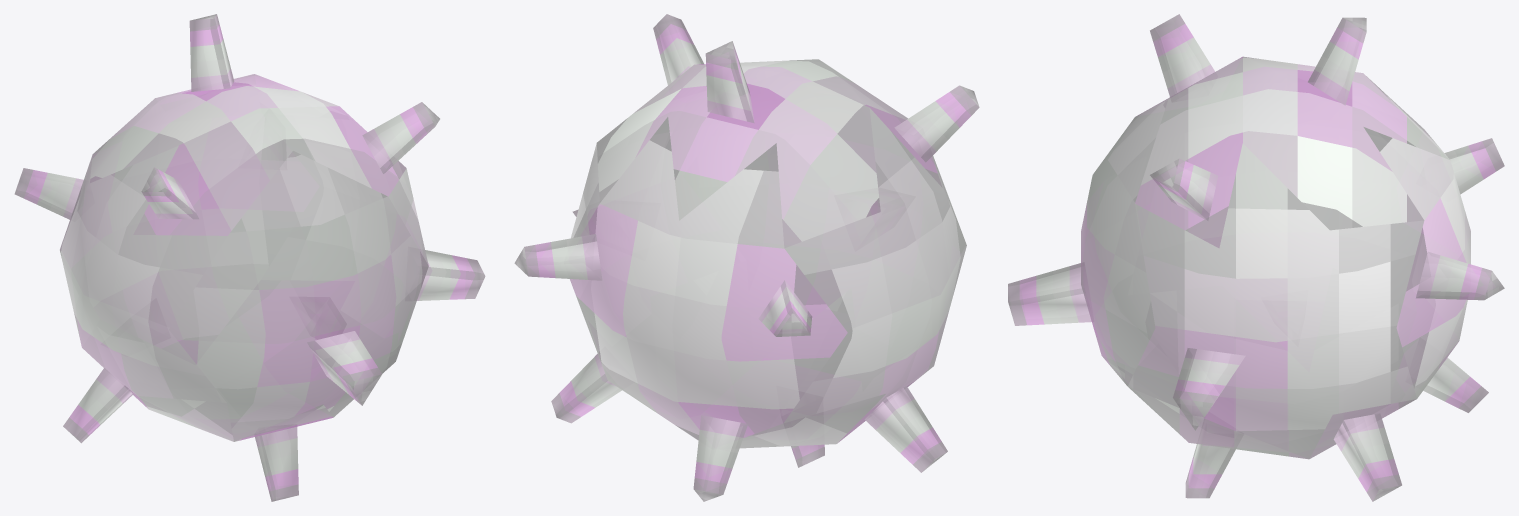
The picture shows the model from 3 angles, left to right: view 1: azimuth 30°, elevation 25°; view 2: azimuth 150°, elevation 25°; view 3: azimuth 270°, elevation 25°; orthographic projection. The views are drawn at different scales.
Parts seen in each view (by area): view 1: layer_00_oe0451L_0; view 2: layer_00_oe0451L_0; view 3: layer_00_oe0451L_0.
Boxes of the visible parts, bbox=[...] form: layer_00_oe0451L_0: bbox=[14, 14, 485, 501]; layer_00_oe0451L_0: bbox=[514, 14, 979, 501]; layer_00_oe0451L_0: bbox=[1008, 14, 1504, 501].
Size of the model in its own units: 5.44 by 6.05 by 5.67.
Materials: 1 (1 with a texture image).
